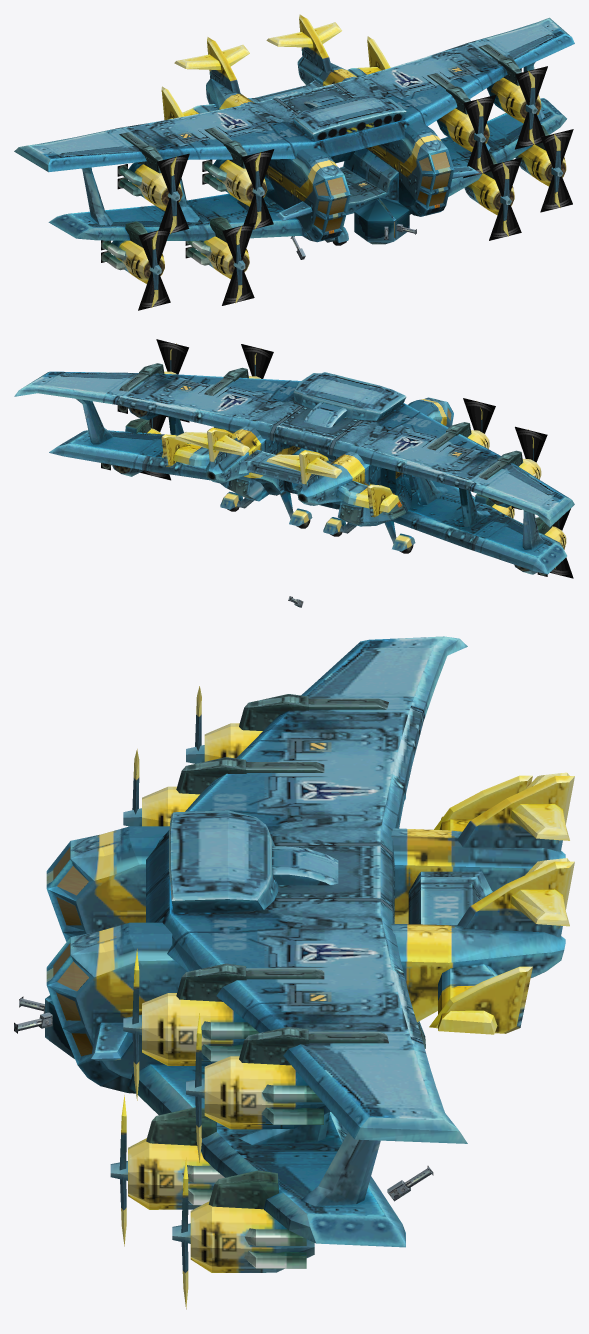
Rendered from VXSFRTH.bgf.obj.
3 views of the same model, one above another, from view 1: azimuth 30°, elevation 25°; view 2: azimuth 150°, elevation 25°; view 3: azimuth 270°, elevation 25° (orthographic). The views are drawn at different scales.
Parts seen in each view (by area): view 1: VXSFRT, TURRET04, MAIN_ROTOR_FAST06, MAIN_ROTOR_FAST, MAIN_ROTOR_FAST04, MAIN_ROTOR_FAST02, MAIN_ROTOR_FAST01, MAIN_ROTOR_FAST05, MAIN_ROTOR_FAST07, MAIN_ROTOR_FAST03, TURRET03; view 2: VXSFRT, MAIN_ROTOR_FAST01, MAIN_ROTOR_FAST05, MAIN_ROTOR_FAST07, MAIN_ROTOR_FAST03, MAIN_ROTOR_FAST06; view 3: VXSFRT.
Boxes of the visible parts, x1,y1,x2,y2 form: VXSFRT: [14, 14, 574, 283]; TURRET04: [354, 199, 395, 244]; MAIN_ROTOR_FAST06: [138, 227, 171, 310]; MAIN_ROTOR_FAST: [540, 129, 573, 212]; MAIN_ROTOR_FAST04: [222, 222, 254, 305]; MAIN_ROTOR_FAST02: [489, 157, 521, 240]; MAIN_ROTOR_FAST01: [515, 66, 547, 149]; MAIN_ROTOR_FAST05: [241, 149, 274, 229]; MAIN_ROTOR_FAST07: [157, 153, 189, 233]; MAIN_ROTOR_FAST03: [463, 95, 496, 178]; TURRET03: [368, 197, 409, 239]; VXSFRT: [14, 363, 574, 576]; MAIN_ROTOR_FAST01: [156, 339, 189, 422]; MAIN_ROTOR_FAST05: [463, 398, 495, 433]; MAIN_ROTOR_FAST07: [515, 426, 547, 462]; MAIN_ROTOR_FAST03: [241, 344, 273, 378]; MAIN_ROTOR_FAST06: [550, 508, 573, 578]; VXSFRT: [46, 636, 574, 1272].
Size of the model in its own units: 35.87 by 12.78 by 17.1.
Materials: 60 (60 with a texture image).
